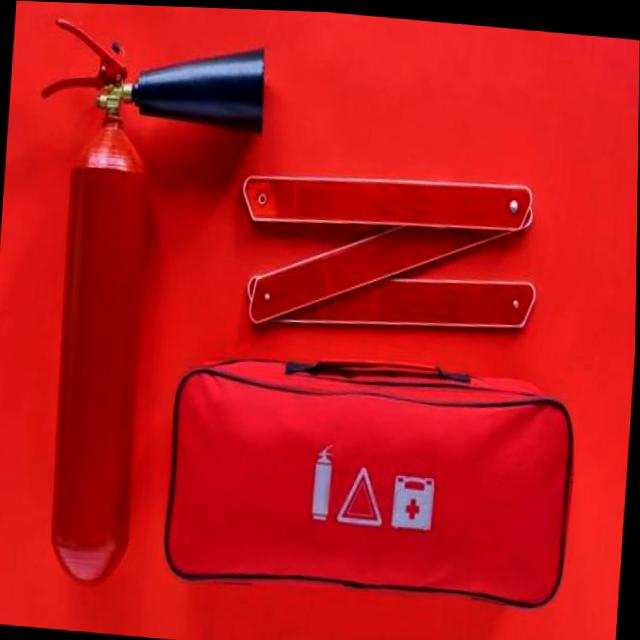FireExtinguisher: (6, 4, 273, 601)
